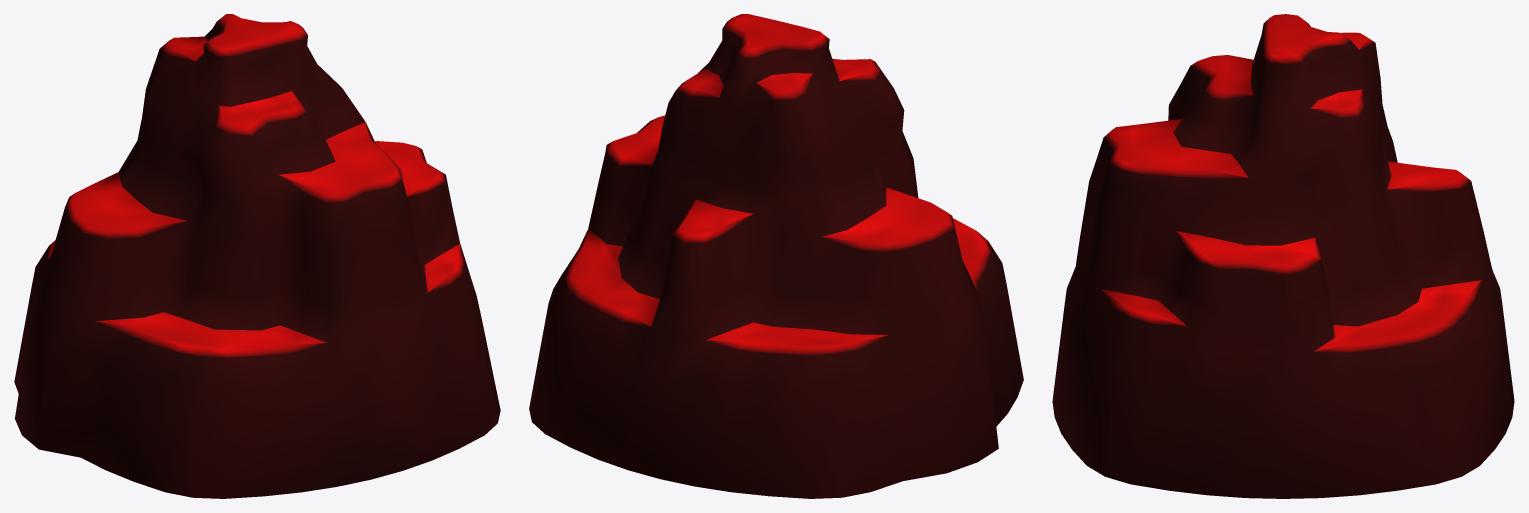
The model's file is geology-landforms-icehilllayered_v3.fbx.
3 renders of one model, left to right at view 1: azimuth 30°, elevation 25°; view 2: azimuth 150°, elevation 25°; view 3: azimuth 270°, elevation 25°, orthographic.
Visible parts, largest first — view 1: IceHillLayered_v3; view 2: IceHillLayered_v3; view 3: IceHillLayered_v3.
Part boxes in pixels (x1,y1,x2,y2): IceHillLayered_v3: (14, 14, 500, 498); IceHillLayered_v3: (529, 14, 1023, 498); IceHillLayered_v3: (1052, 14, 1514, 498).
Size of the model in its own units: 43.96 by 36.42 by 41.71.
